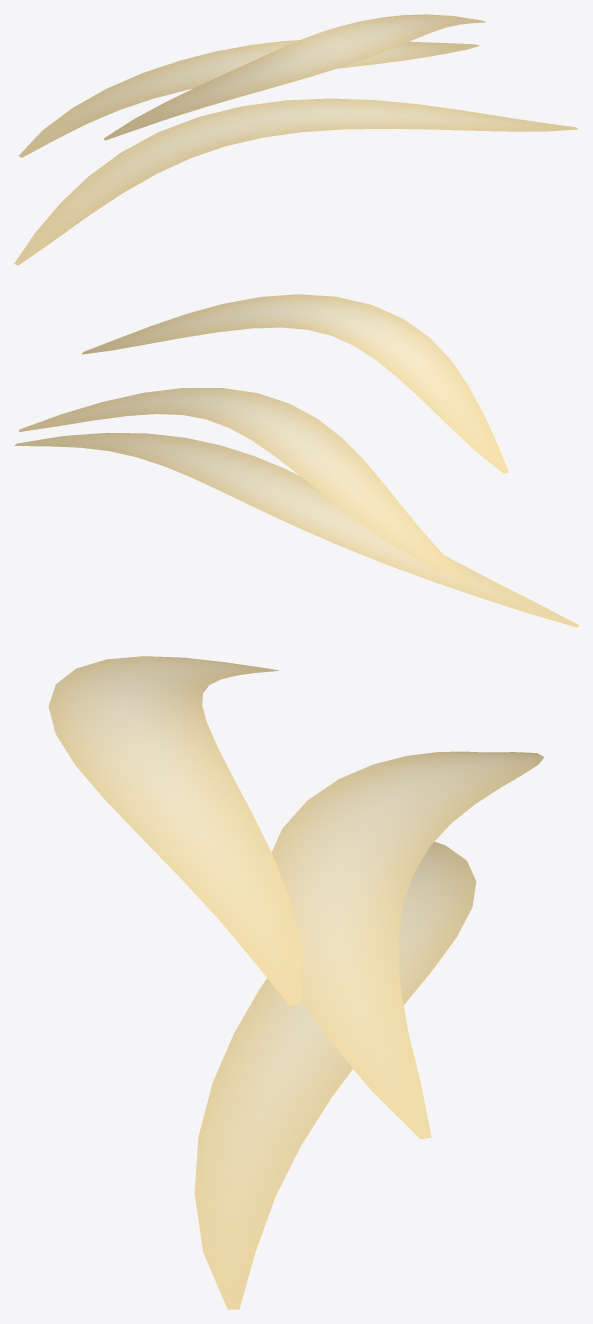
The model's file is SD_FX04_WindGust.fbx.
3 renders of one model, top to bottom at view 1: azimuth 30°, elevation 25°; view 2: azimuth 150°, elevation 25°; view 3: azimuth 270°, elevation 25°, orthographic. The views are drawn at different scales.
Visible parts, largest first — view 1: Ribbon_01, Ribbon_03, Ribbon_02; view 2: Ribbon_02, Ribbon_03, Ribbon_01; view 3: Ribbon_02, Ribbon_03, Ribbon_01.
Boxes of the visible parts, x1=… form: Ribbon_01: x1=14, y1=98, x2=578, y2=265; Ribbon_03: x1=104, y1=14, x2=485, y2=140; Ribbon_02: x1=19, y1=40, x2=479, y2=157; Ribbon_02: x1=19, y1=388, x2=472, y2=585; Ribbon_03: x1=82, y1=294, x2=508, y2=473; Ribbon_01: x1=14, y1=432, x2=578, y2=627; Ribbon_02: x1=271, y1=751, x2=544, y2=1139; Ribbon_03: x1=48, y1=656, x2=303, y2=1006; Ribbon_01: x1=194, y1=841, x2=476, y2=1309.
Bounding box in the file's own units: 4.21 × 1.38 × 1.67.
